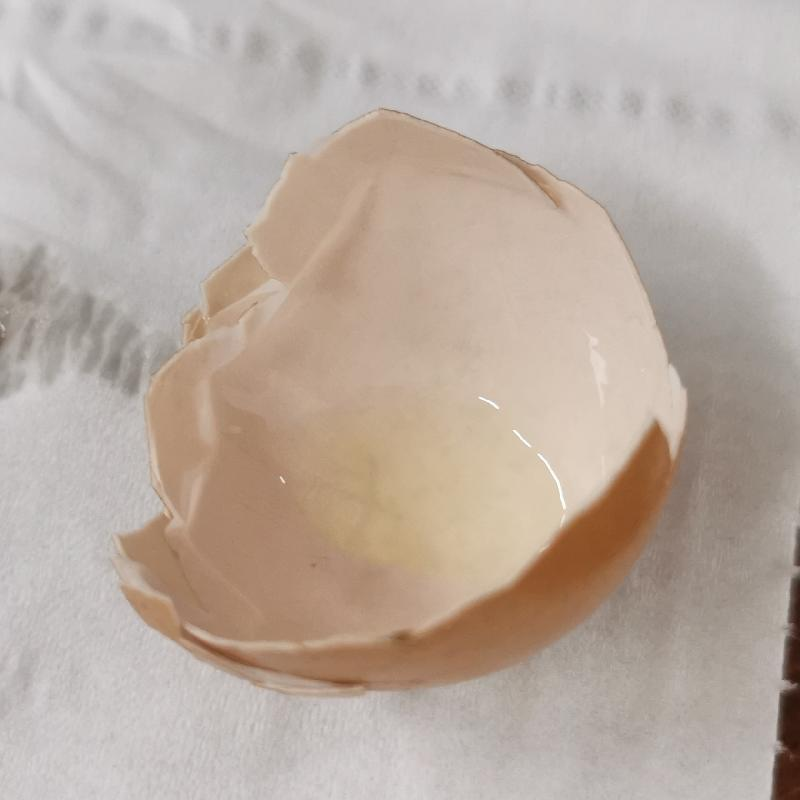eggshell: (113, 98, 693, 690)
